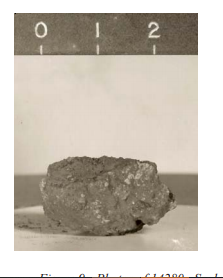Breccia: (42, 142, 179, 240)
